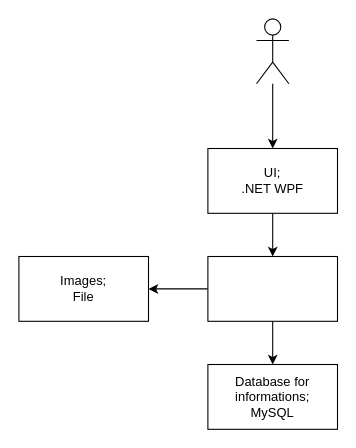
This 356x448 diagram has some shape labels left out. Each missing label, with the centre of its shape:
"BackEnd; .NET C#" goes at point (272, 288).
"User" goes at point (272, 51).
